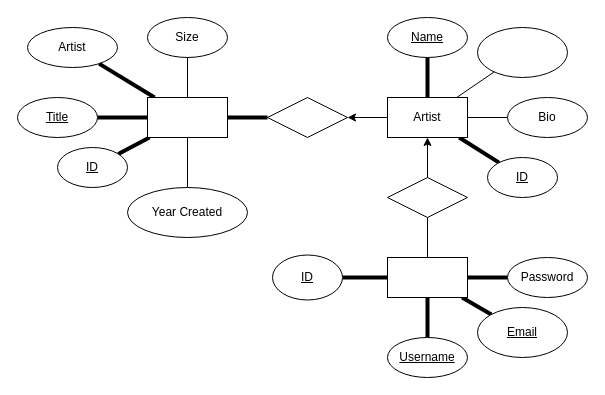
This 605x395 diagram has some shape labels left out. Here are the shapes that lost their labels. From the top down, the centre of each, then its label:
At pixel 522 52: "Country".
At pixel 187 117: "Artwork".
At pixel 307 117: "Created".
At pixel 427 197: "Views".
At pixel 427 277: "User Account".
